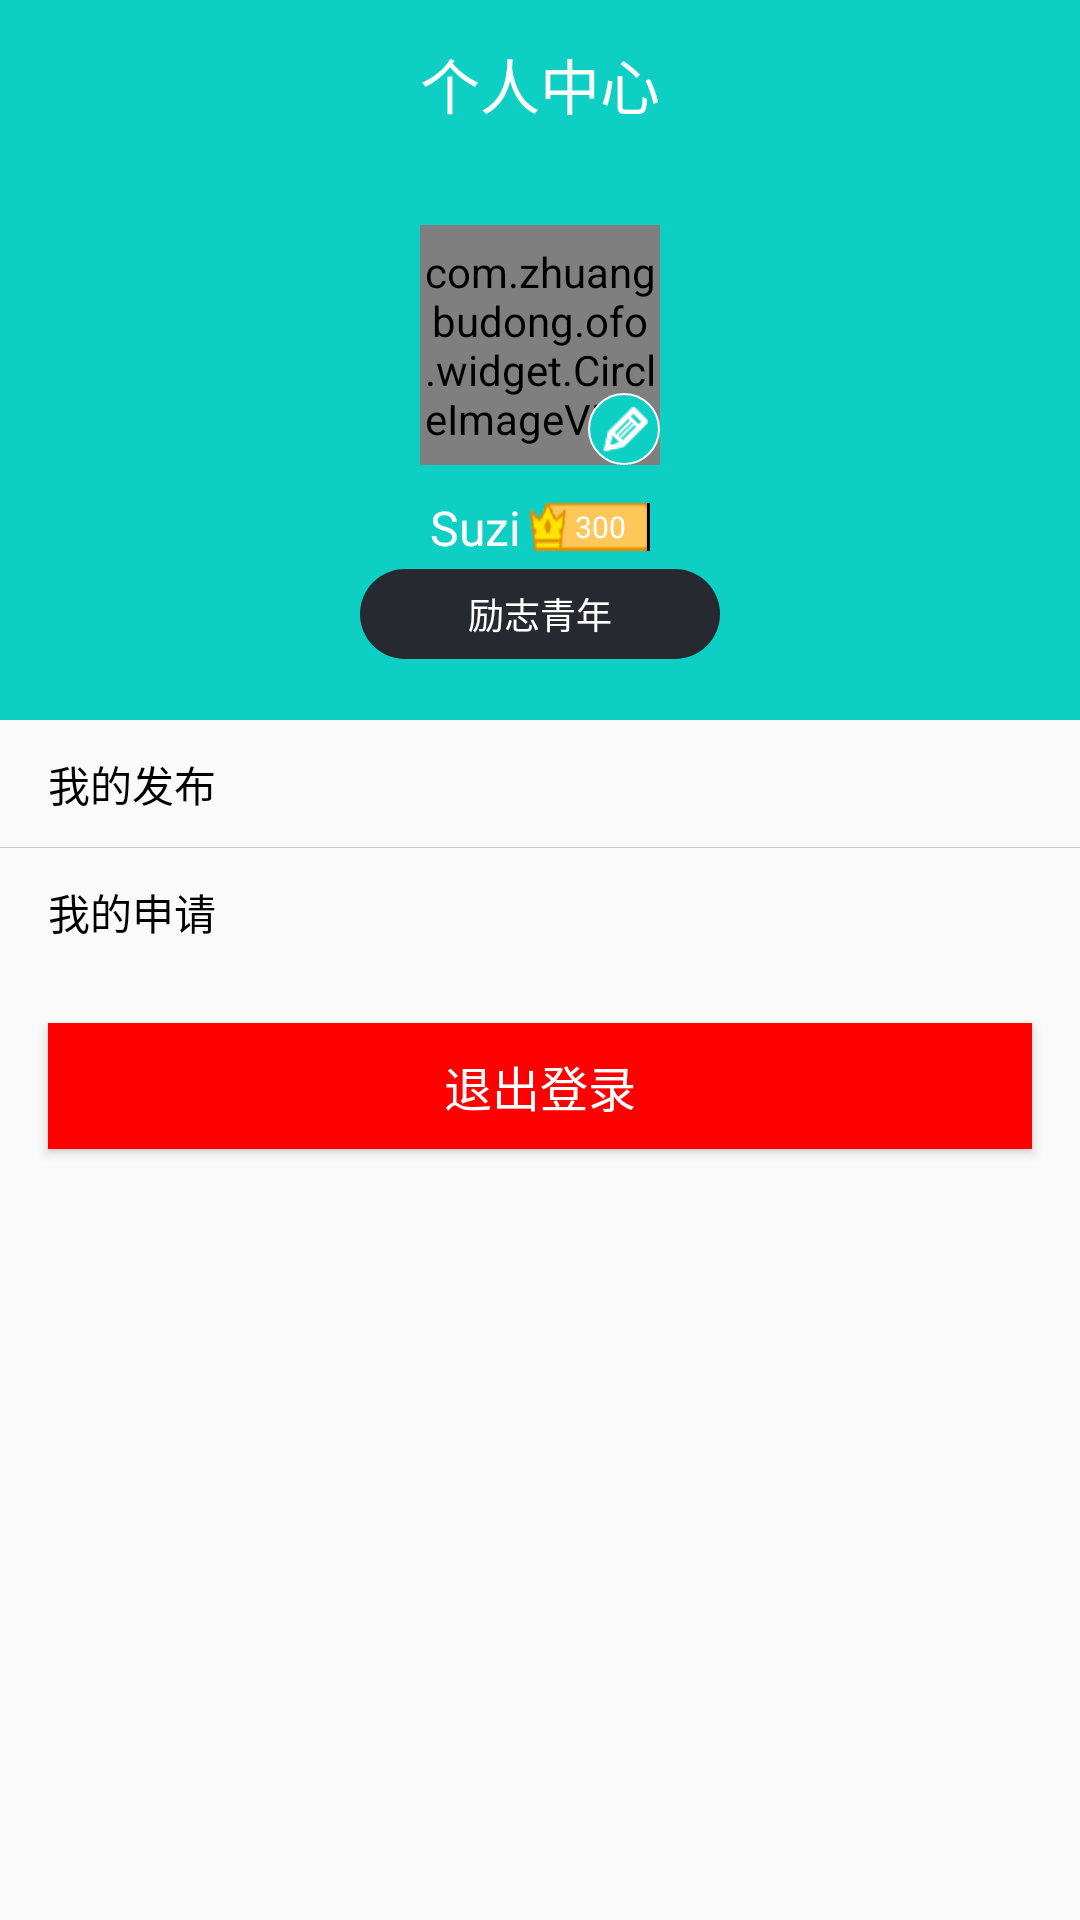

Screen size 1080w x 1920h. Icon name, then its center in pixels as (x,y):
pen: (624,429)
